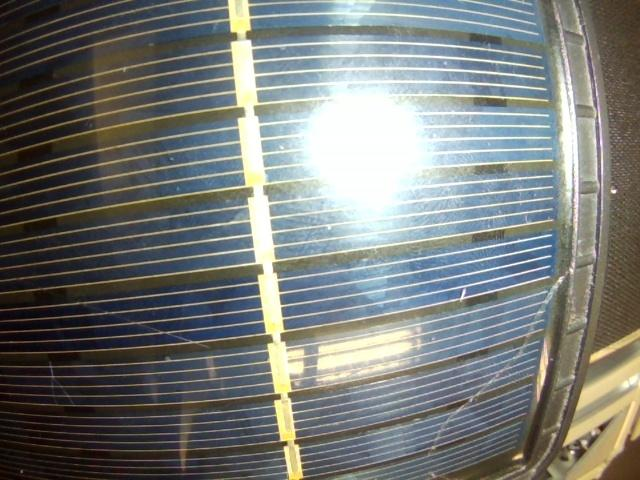crack: (430, 277, 563, 452), (131, 321, 209, 349), (48, 362, 73, 404), (460, 289, 466, 300)
